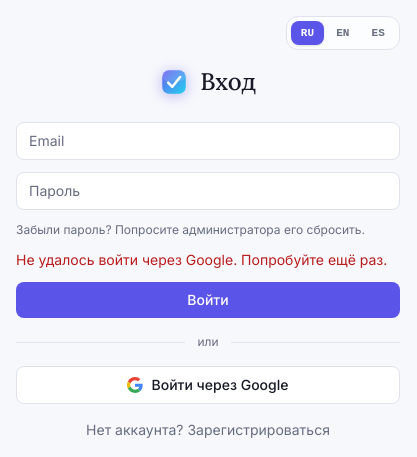
it: LoginView › switching between sign-in and sign-up clears the other form's error
Step 1. Click the button "Нет аккаунта? Зарегистрироваться" → (208, 430), box [16,420,400,440]
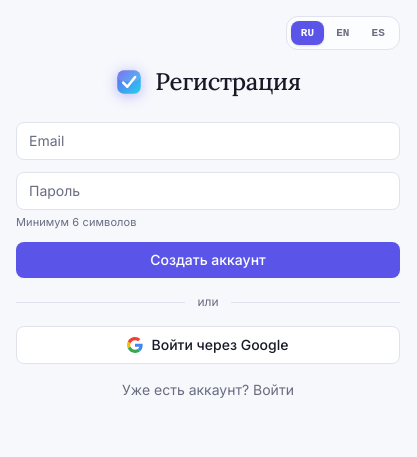
Check: the text "Не удалось войти через Google. Попробуйте ещё раз." is gone
